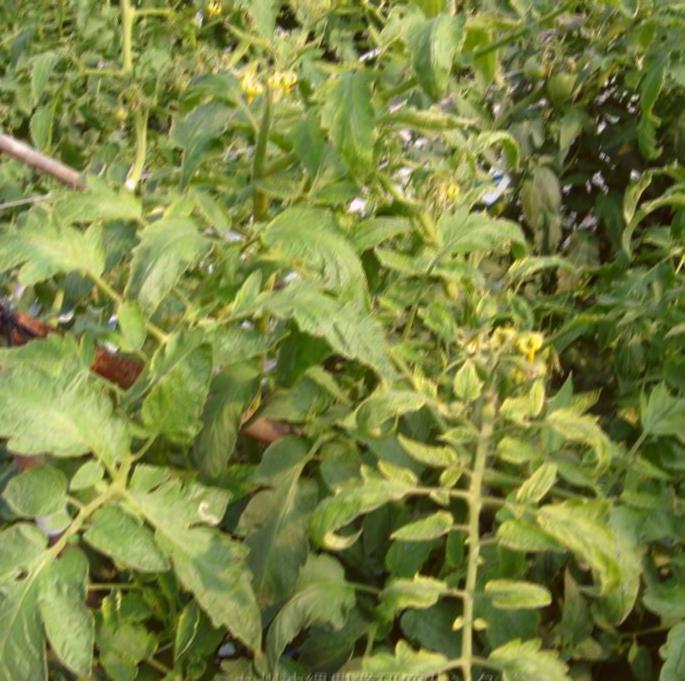Tomato leaf yellow virus: (128, 471, 275, 661), (251, 285, 421, 389), (0, 349, 145, 470), (0, 505, 92, 681), (256, 206, 391, 304), (535, 503, 646, 610), (312, 64, 393, 197), (310, 454, 414, 550), (0, 208, 119, 283), (12, 175, 166, 226), (495, 625, 605, 681), (551, 397, 624, 481), (432, 203, 534, 259), (485, 510, 572, 568), (375, 567, 458, 623), (326, 643, 446, 681), (388, 504, 463, 553), (479, 578, 562, 613), (450, 356, 498, 407)
